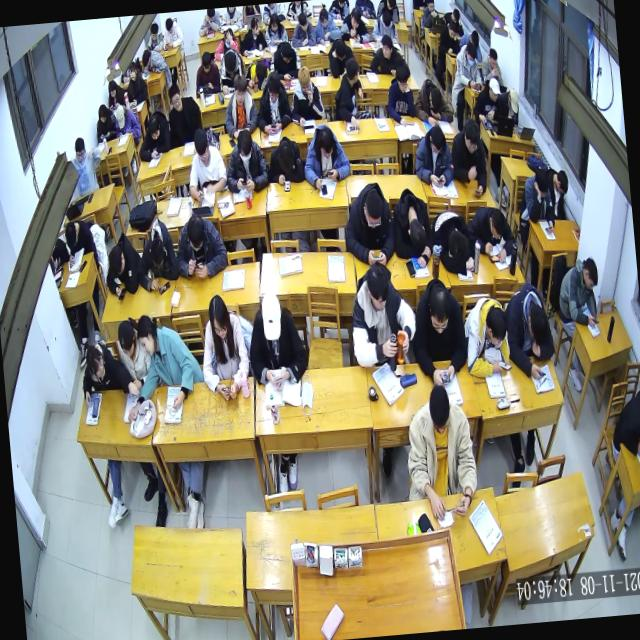bow: (119, 310, 204, 414), (503, 280, 556, 380), (461, 292, 511, 376), (174, 210, 228, 282), (388, 185, 434, 268), (134, 218, 180, 292), (78, 338, 130, 402), (466, 204, 516, 264), (430, 206, 474, 274), (102, 235, 143, 300), (413, 76, 454, 128), (265, 134, 304, 184), (136, 110, 172, 162), (338, 5, 371, 43), (325, 36, 354, 79), (212, 26, 239, 59), (243, 60, 271, 90), (140, 46, 169, 72), (439, 8, 464, 36), (197, 8, 220, 34)
down: (426, 384, 452, 434), (365, 262, 391, 311), (426, 286, 451, 332), (260, 292, 282, 342), (207, 294, 229, 340), (484, 304, 508, 344), (362, 186, 384, 227), (526, 301, 548, 341), (184, 210, 205, 250), (116, 320, 136, 358), (192, 126, 210, 164), (462, 116, 480, 152), (236, 128, 253, 164), (107, 245, 125, 276), (583, 257, 599, 291), (317, 127, 333, 160), (148, 237, 165, 267), (277, 140, 294, 169), (488, 208, 504, 238), (232, 74, 247, 105), (428, 124, 443, 154), (266, 72, 281, 102), (534, 168, 548, 198), (296, 65, 310, 94), (63, 220, 78, 246), (554, 169, 568, 196), (395, 65, 408, 93), (428, 84, 442, 110), (488, 77, 501, 103), (507, 86, 520, 112), (464, 42, 478, 66), (147, 116, 160, 140), (348, 5, 361, 28), (223, 52, 237, 72), (280, 41, 292, 64), (380, 7, 392, 30), (114, 105, 126, 128), (334, 38, 346, 60), (200, 49, 211, 72), (318, 7, 329, 29), (222, 28, 234, 48), (254, 62, 266, 81), (488, 47, 498, 69), (96, 101, 106, 122), (149, 23, 160, 42), (269, 12, 279, 32), (298, 10, 308, 30), (140, 49, 150, 68), (106, 78, 115, 99), (164, 15, 173, 32), (448, 22, 457, 38), (450, 8, 460, 22), (425, 0, 435, 11)
lookup: (166, 82, 182, 110), (73, 136, 86, 163), (380, 32, 393, 56), (128, 60, 137, 80)
sit: (400, 381, 481, 522), (346, 260, 418, 366), (244, 290, 308, 394), (409, 274, 469, 384), (196, 293, 252, 402), (341, 180, 396, 266), (300, 120, 351, 190), (184, 126, 228, 202), (448, 118, 488, 199), (558, 255, 602, 328), (223, 128, 269, 194), (412, 122, 454, 187), (331, 56, 366, 132), (116, 318, 152, 390), (222, 72, 258, 139), (520, 167, 556, 234), (166, 79, 203, 144), (287, 64, 325, 127), (254, 72, 292, 134), (366, 31, 409, 79), (70, 133, 102, 196), (383, 65, 416, 126), (452, 38, 482, 92), (64, 217, 98, 264), (266, 40, 302, 82), (470, 76, 502, 123), (192, 49, 221, 95), (235, 14, 267, 55), (546, 167, 570, 220), (218, 48, 245, 94), (124, 58, 149, 106), (313, 7, 342, 46), (112, 104, 141, 142), (369, 6, 397, 44), (479, 46, 504, 87), (290, 9, 316, 46), (94, 102, 118, 140), (498, 86, 520, 126), (160, 14, 184, 49), (437, 20, 460, 56), (263, 13, 288, 46), (106, 78, 126, 109), (143, 22, 163, 52), (420, 0, 439, 25)
